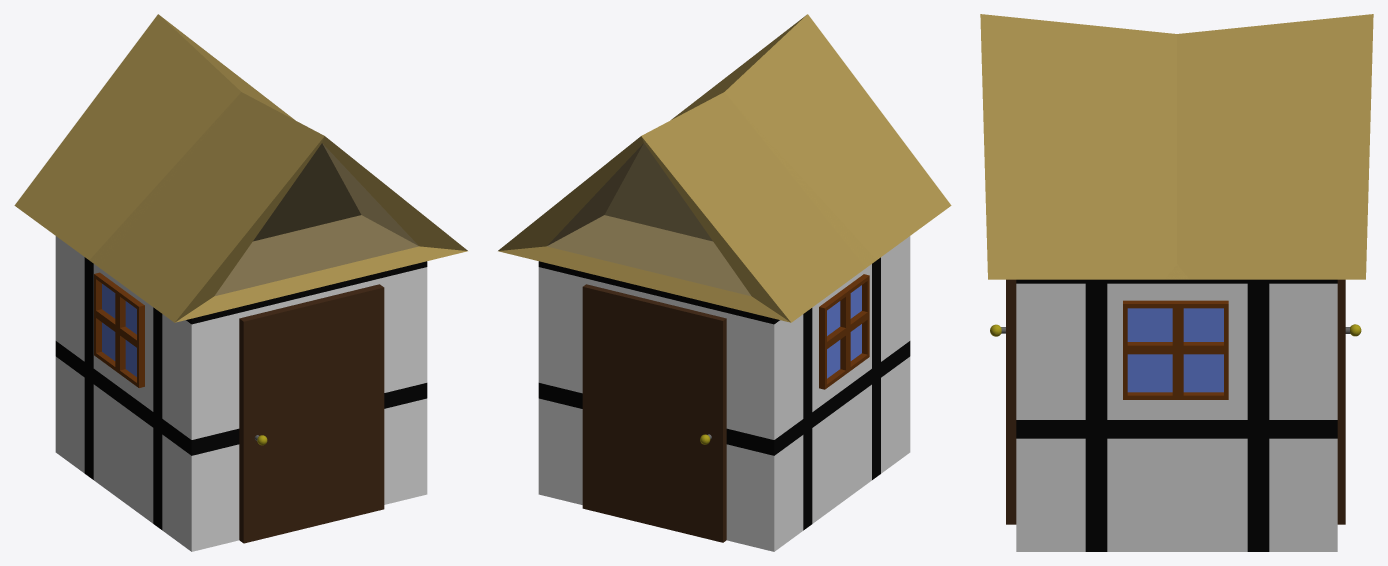
The model's file is House.fbx.
3 renders of one model, left to right at view 1: azimuth 30°, elevation 25°; view 2: azimuth 150°, elevation 25°; view 3: azimuth 270°, elevation 25°, orthographic. The views are drawn at different scales.
Parts seen in each view (by area): view 1: roof, House, door1, Window.000; view 2: roof, House, door0, Window.000; view 3: roof, House, Window.001, door1, door0.
Part boxes in pixels (bbox=[...]): roof: bbox=[14, 14, 467, 322]; House: bbox=[55, 236, 427, 551]; door1: bbox=[239, 284, 384, 543]; Window.000: bbox=[94, 272, 144, 387]; roof: bbox=[498, 14, 951, 322]; House: bbox=[538, 236, 910, 551]; door0: bbox=[582, 284, 726, 542]; Window.000: bbox=[819, 274, 869, 389]; roof: bbox=[980, 14, 1373, 279]; House: bbox=[1016, 279, 1337, 551]; Window.001: bbox=[1123, 300, 1228, 399]; door1: bbox=[1006, 279, 1016, 524]; door0: bbox=[1337, 279, 1345, 524].
Size of the model in its own units: 249 by 323 by 245.
